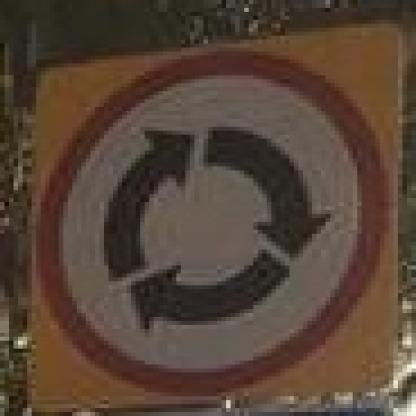Roundabout Ahead: (30, 25, 403, 408)
